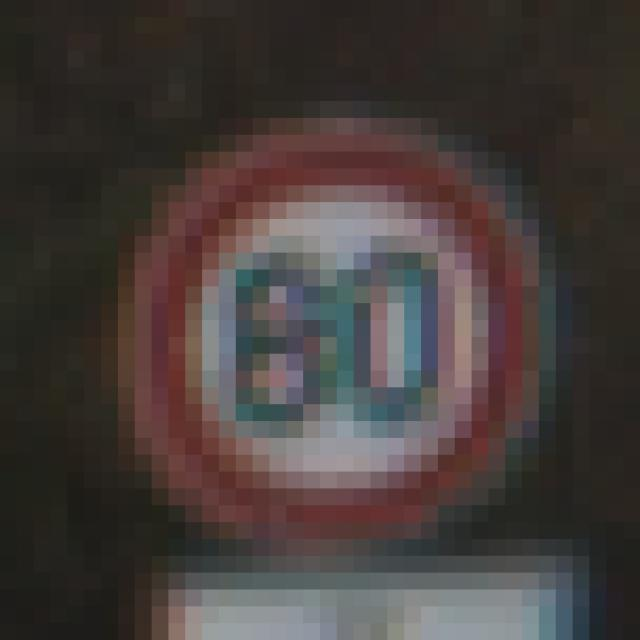Ograniczenie predkosci do 80: (142, 135, 534, 552)
